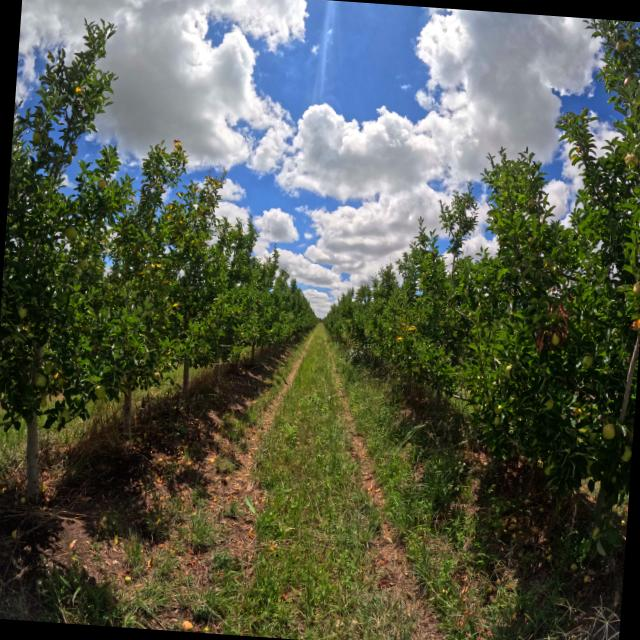-FireBlight-: (536, 323, 569, 354), (558, 302, 574, 328), (567, 291, 574, 305), (546, 303, 554, 314), (548, 285, 555, 291)
